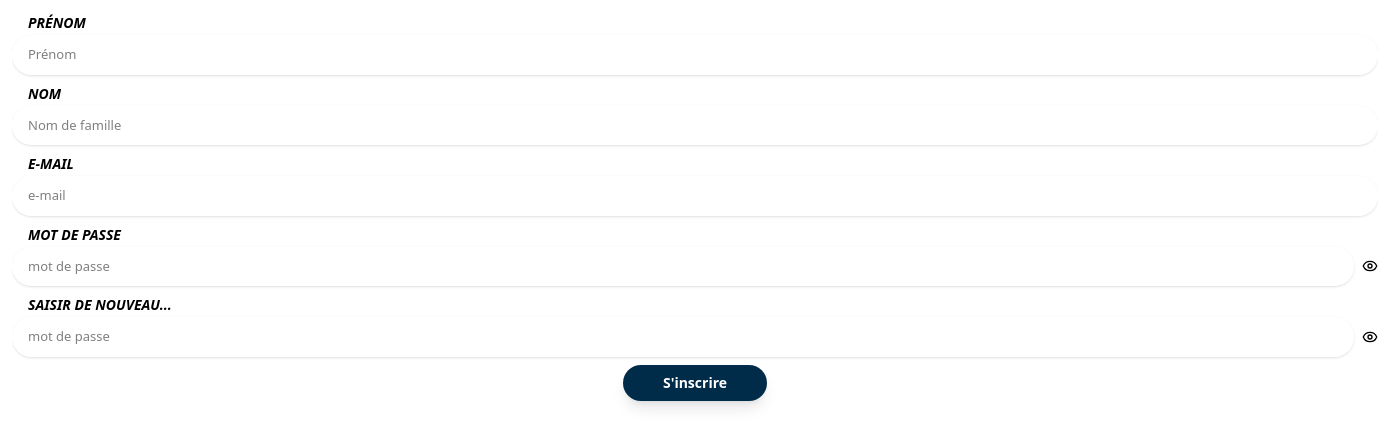
it: RegisterForm › refuse une confirmation différente du mot de passe, sans rien envoyer
Type "Test" into the field with placeholder "Prénom" at point(695, 55), box [12,35,1378,74]
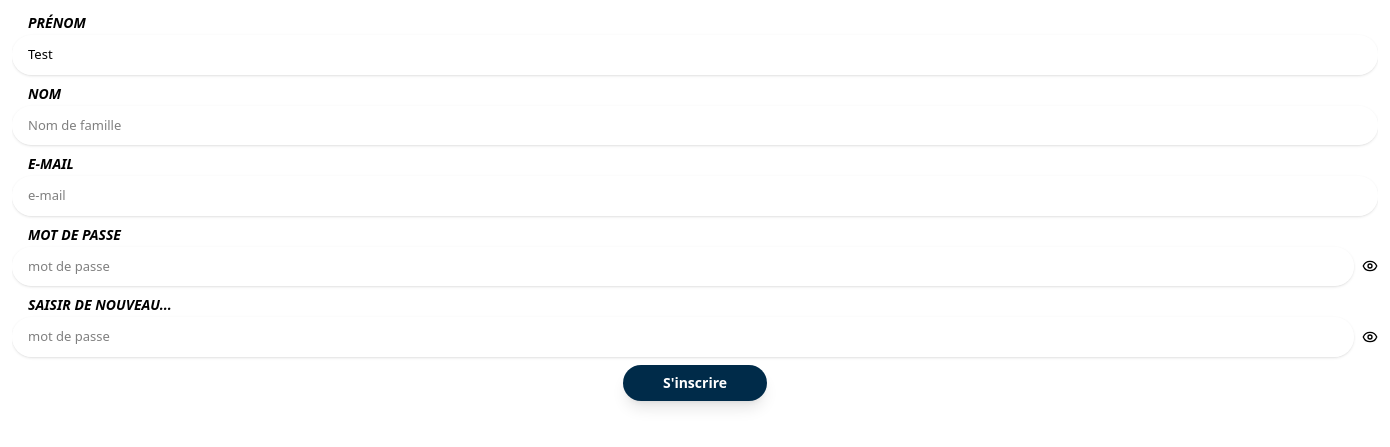
Type "User" into the field labelled "Nom" at point(695, 125), box [12,106,1378,145]
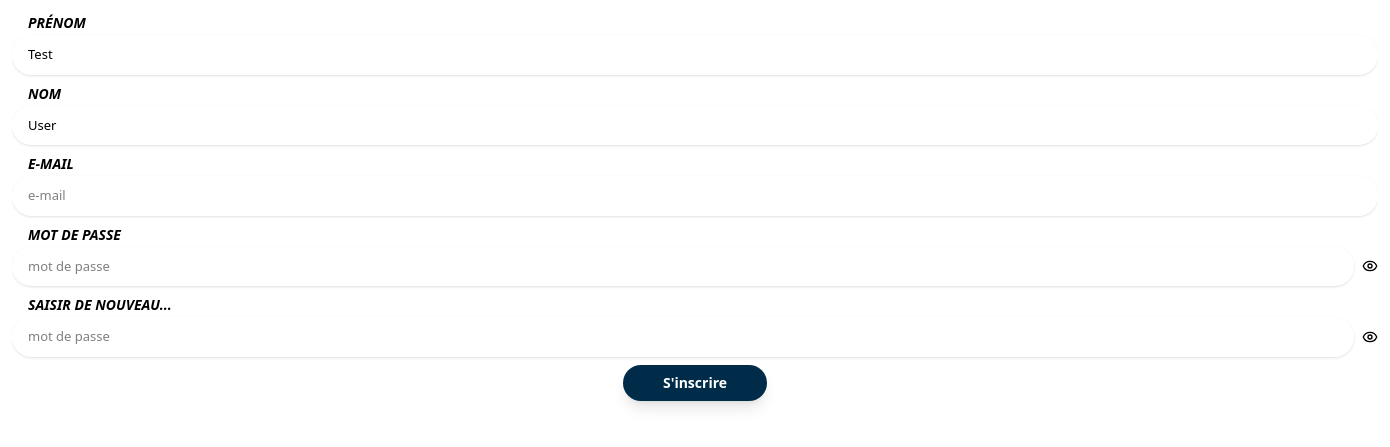
Type "test@lapince.fr" into the field labelled "E-mail" at point(695, 196), box [12,176,1378,216]
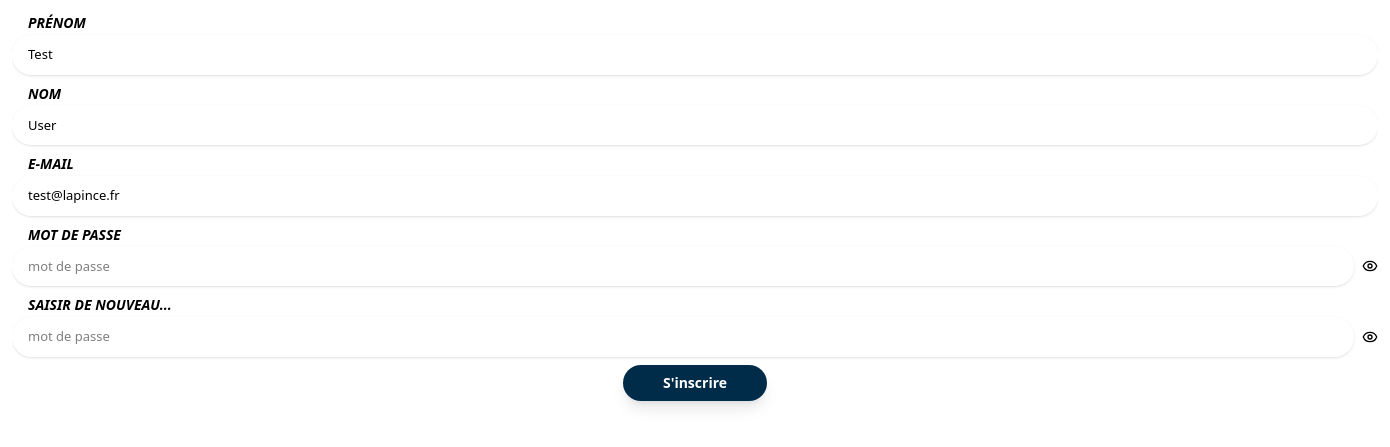
Type "Motdepasse1@" into the password field labelled "Mot de passe" at point(683, 266), box [12,246,1354,286]
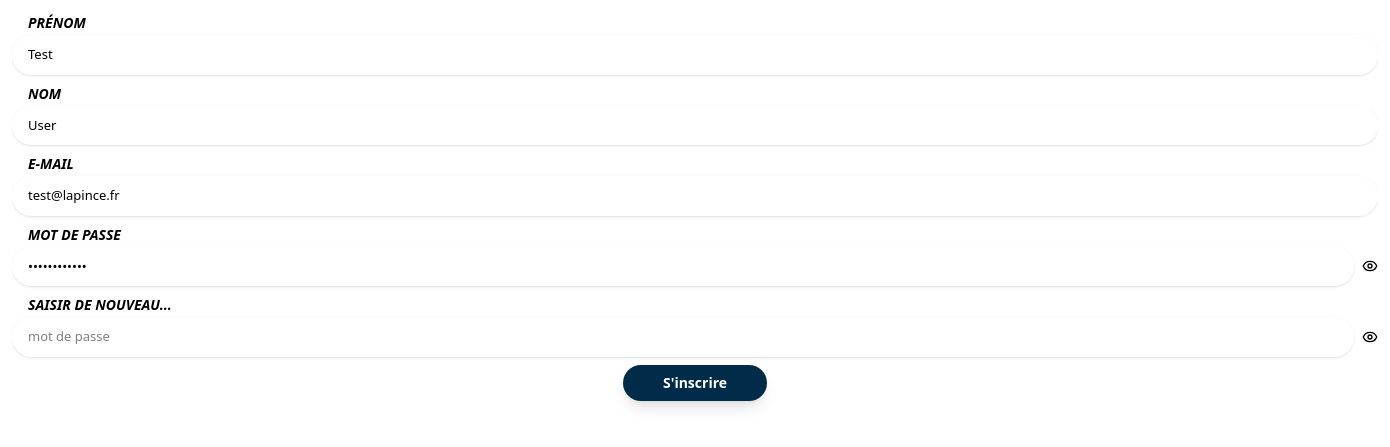
Type "Autre1@mdp" into the password field labelled "Saisir de nouveau..." at point(683, 337), box [12,317,1354,356]
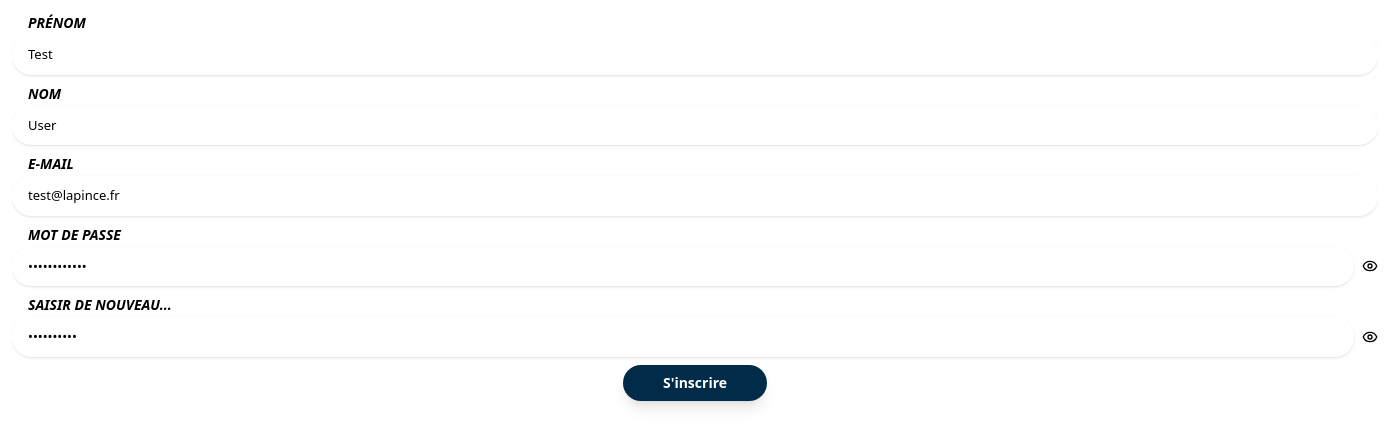
Submit the form
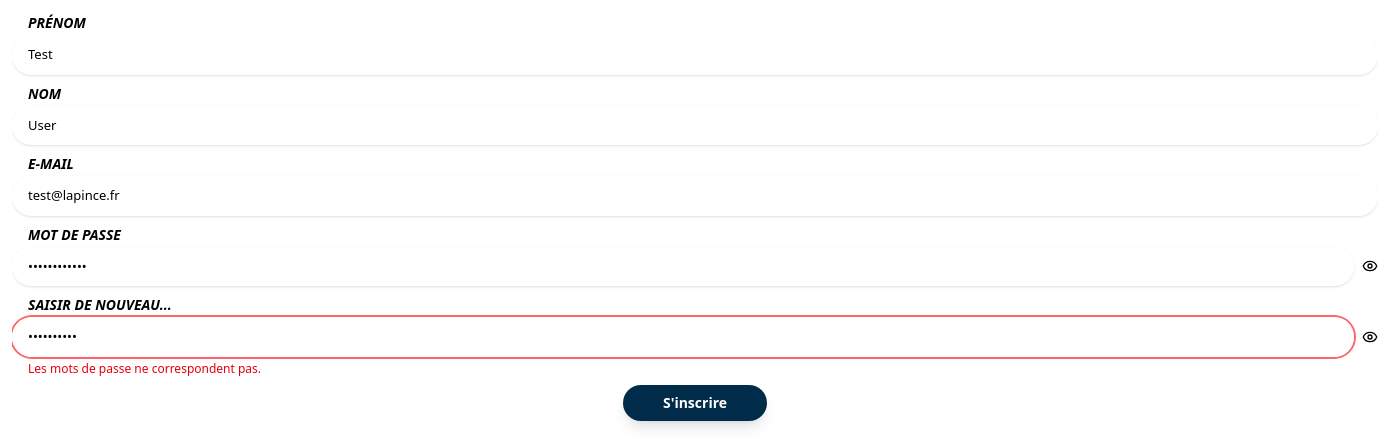
Now the message shows "Les mots de passe ne correspondent pas", box [28,360,261,376]
